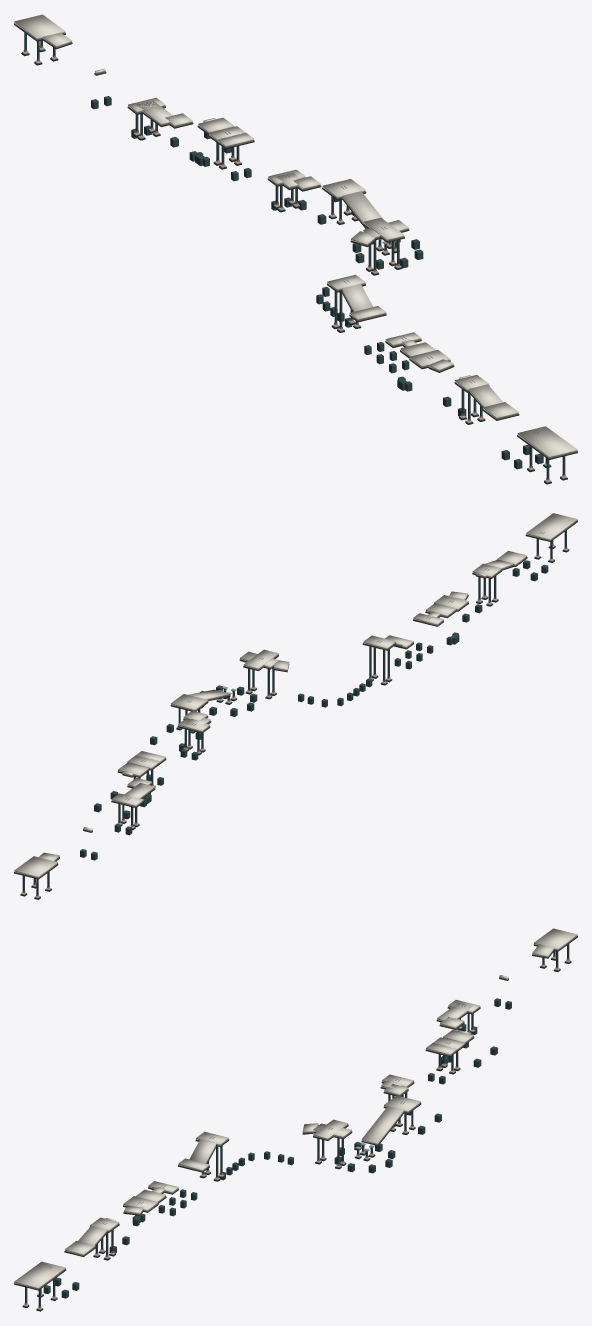
The model's file is advanced-trial-track.glb.
3 renders of one model, top to bottom at view 1: azimuth 30°, elevation 25°; view 2: azimuth 150°, elevation 25°; view 3: azimuth 330°, elevation 25°, orthographic. The views are drawn at different scales.
Visible parts, largest first — view 1: TrackStatic; view 2: TrackStatic; view 3: TrackStatic.
Boxes of the visible parts, bbox=[...] form: TrackStatic: bbox=[14, 14, 577, 484]; TrackStatic: bbox=[14, 513, 577, 899]; TrackStatic: bbox=[14, 928, 577, 1311].
Size of the model in its own units: 20.28 by 6.11 by 129.
